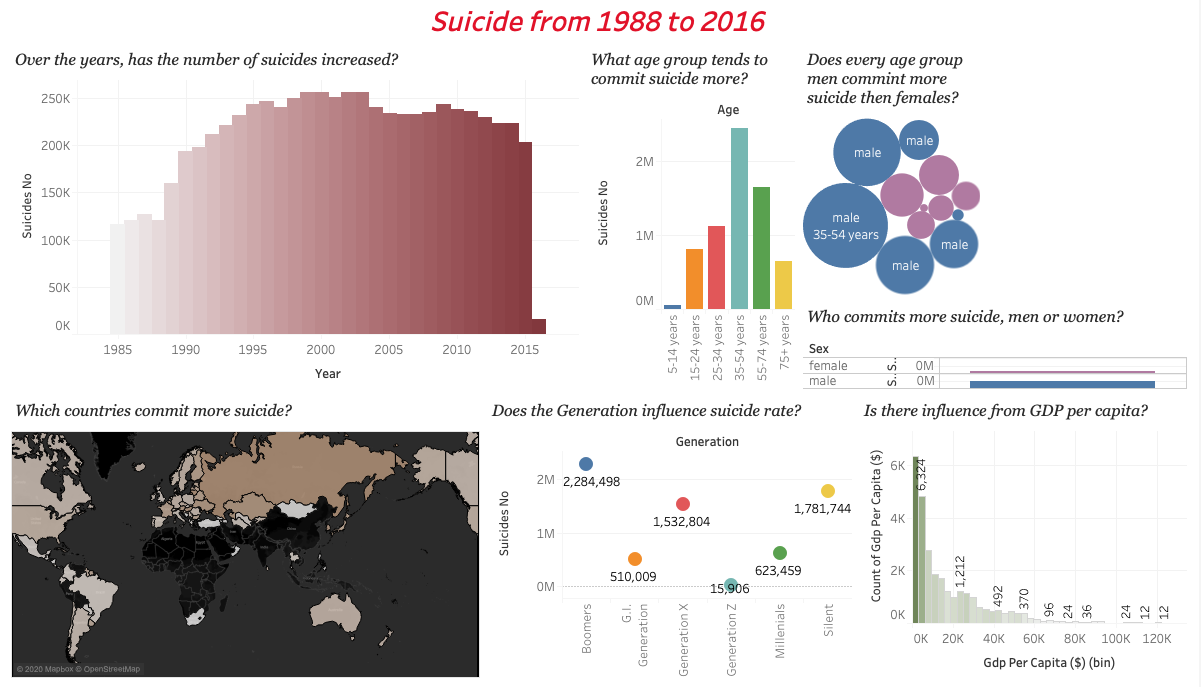

The dashboard page shown, as its layout file describes it:
{"tool":"tableau","page":{"name":"Dashboard 1","canvas":[1200,700],"ordinal":0},"visuals":[{"type":"title","box":[8,8,1184,44]},{"type":"worksheet","title":"Sheet 1","mark":"Bar","rows":["suicides_no"],"cols":["year"],"box":[8,52,575.6,351]},{"type":"worksheet","title":"Sheet 2","mark":"Automatic","rows":["suicides_no"],"cols":["age"],"box":[583.6,52,216,351]},{"type":"worksheet","title":"Sheet 4","mark":"Circle","box":[799.6,52,392.4,257]},{"type":"worksheet","title":"Sheet 3","mark":"Automatic","rows":["sex","suicides_no"],"box":[799.6,309,392.4,94]},{"type":"worksheet","title":"Sheet 5","mark":"Automatic","box":[8,403,477,289]},{"type":"worksheet","title":"Sheet 6","mark":"Shape","rows":["suicides_no"],"cols":["generation"],"box":[485,403,372.2,289]},{"type":"worksheet","title":"Sheet 7","mark":"Automatic","rows":["gdp_per_capita ($)"],"cols":["Gdp Per Capita ($) (bin)"],"box":[857.1,403,334.9,289]}]}

Visuals, with their boxes in screenshot pixels (x1, y1, x2, y2), scaled from the page's 1200x700 canvas onto the 1201x687 screenshot:
title: box(8, 8, 1193, 51)
"Sheet 1" worksheet (Bar marks): box(8, 51, 584, 396)
"Sheet 2" worksheet: box(584, 51, 800, 396)
"Sheet 4" worksheet (Circle marks): box(800, 51, 1193, 303)
"Sheet 3" worksheet: box(800, 303, 1193, 396)
"Sheet 5" worksheet: box(8, 396, 485, 679)
"Sheet 6" worksheet (Shape marks): box(485, 396, 858, 679)
"Sheet 7" worksheet: box(858, 396, 1193, 679)
